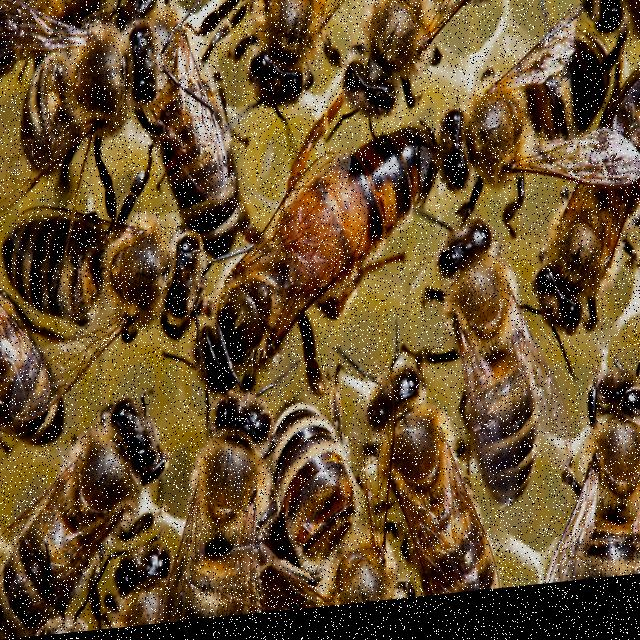Apis-mellifera-scutellata: (197, 114, 416, 418), (346, 339, 512, 608), (423, 201, 552, 532), (101, 0, 254, 269), (14, 169, 193, 386), (0, 385, 144, 640), (0, 0, 187, 196), (256, 382, 400, 619), (533, 70, 640, 357), (430, 56, 628, 194), (329, 0, 505, 116), (190, 389, 264, 624), (568, 363, 639, 594), (0, 262, 68, 472), (240, 0, 328, 136)
